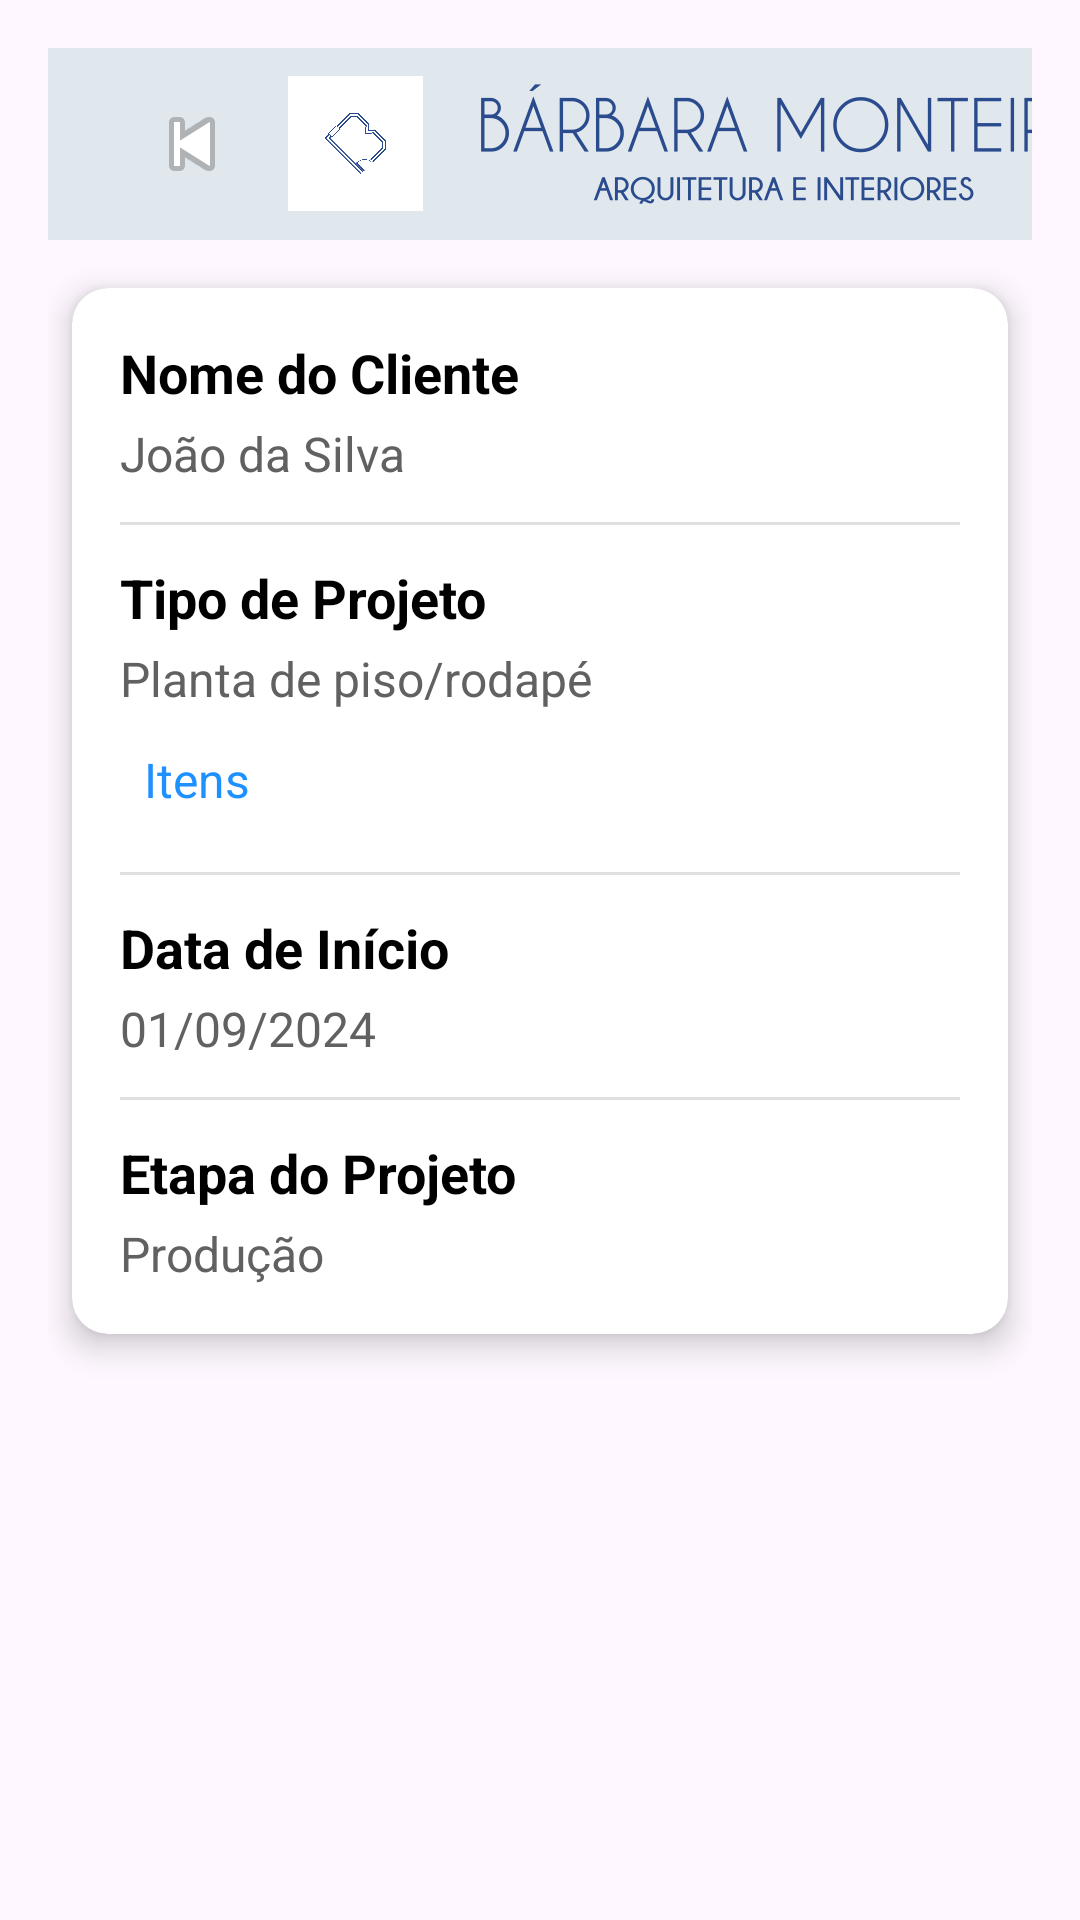

Named icons in this screenshot (1080*1920) and their bounding boxes, bbox=(x1, y1, x2, y2):
Voltar: bbox=(169, 117, 215, 171)
